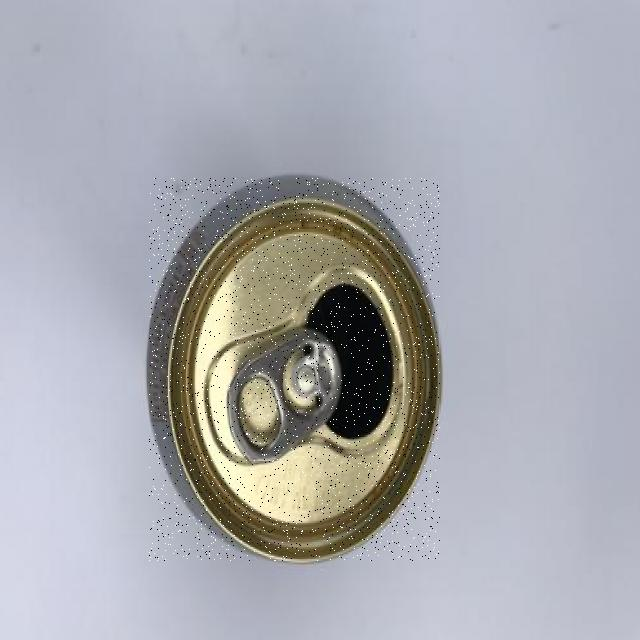metal: (150, 178, 440, 561)
